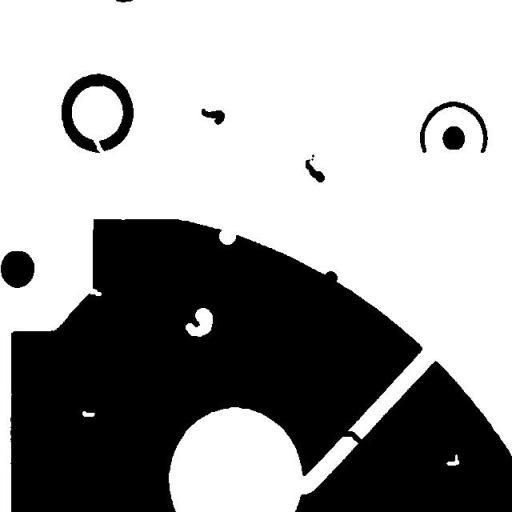copper: (298, 146, 332, 190), (194, 101, 232, 132)
mousebite: (211, 220, 243, 252), (82, 280, 108, 303)
open: (86, 131, 112, 162)
pin-hole: (178, 300, 220, 344), (438, 446, 466, 473), (74, 403, 102, 424)
short: (334, 423, 370, 451)
spur: (316, 263, 345, 292)
